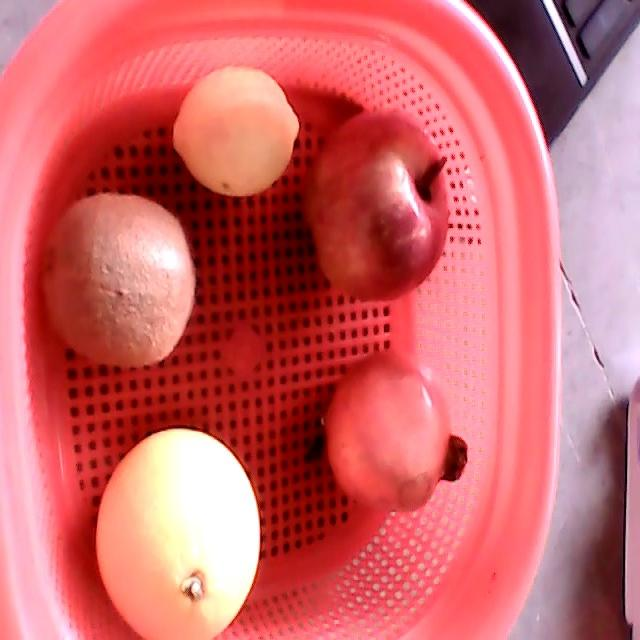apple: (302, 109, 451, 304)
kiwi: (41, 191, 196, 369)
lemon: (172, 67, 300, 196)
orange: (94, 428, 261, 639)
pomegranate: (321, 348, 469, 515)
